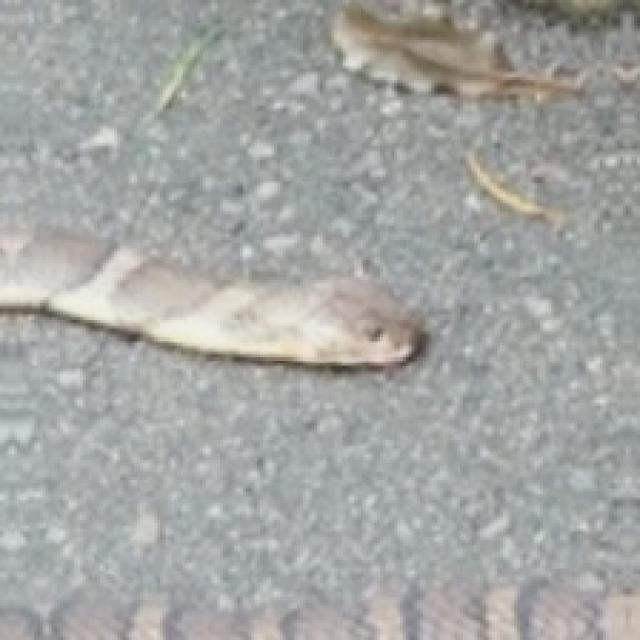king cobra: (0, 231, 423, 366)
